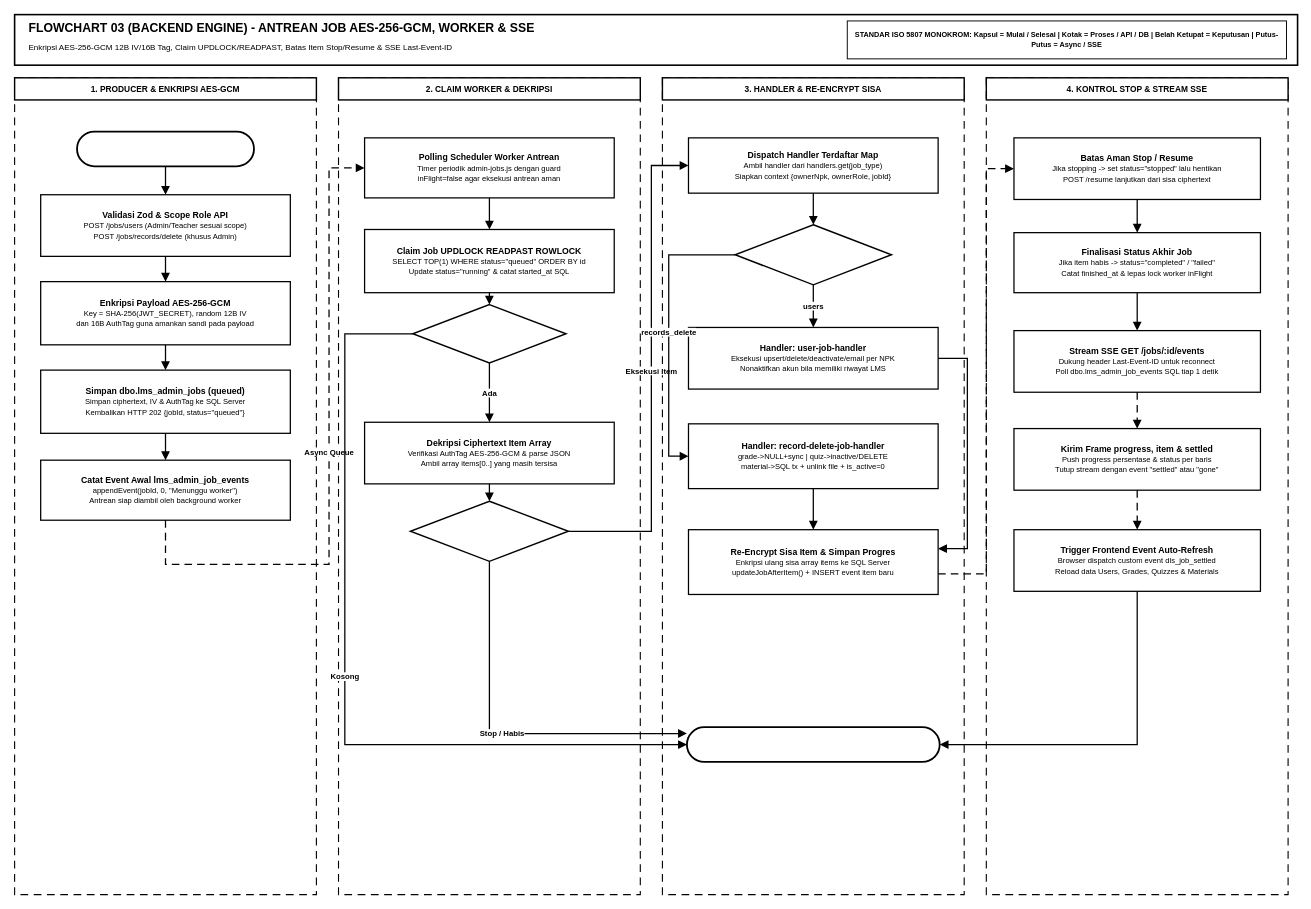
Image size: 1311x909. Some labels were removed from this diagram. The centre of each missing label's shape, as x and y in pixels:
"Ada Job queued Berhasil Di-claim?" goes at point 489,333.
"isStopping(jobId) atau Items Habis?" goes at point 489,531.
"Jenis Job: users vs records?" goes at point 813,254.
"JOB ANTREAN & SSE SELESAI" goes at point 813,744.
"REQUEST BULK JOB (1..5000)" goes at point 165,148.
